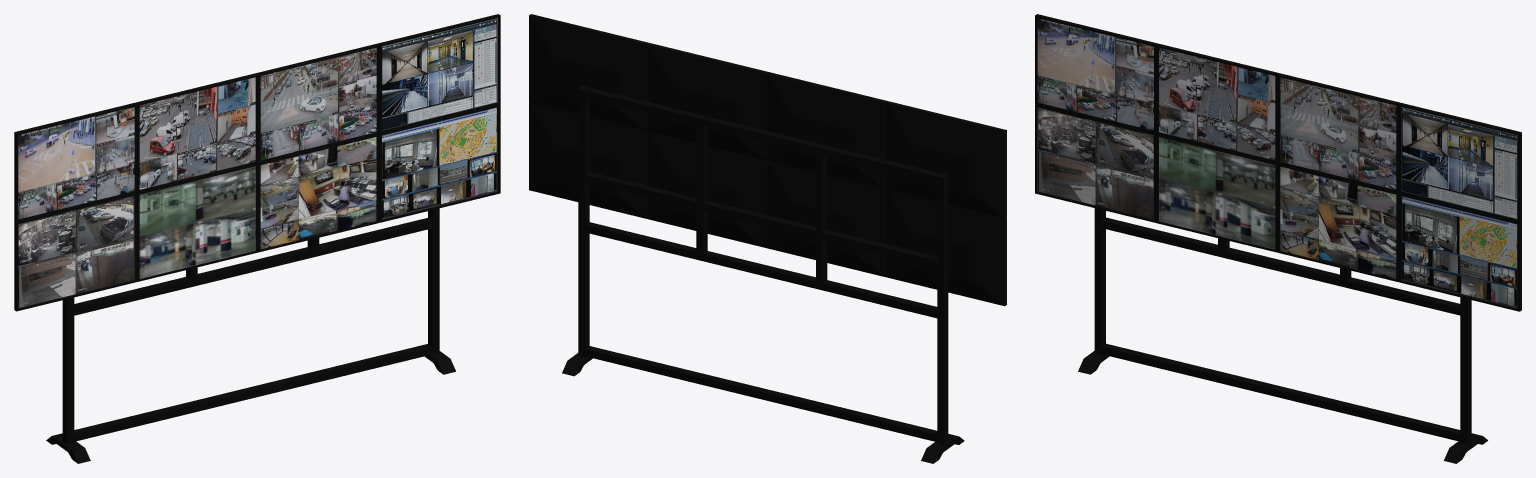
The model's file is Monitors.FBX.
3 views of the same model, side by side, from view 1: azimuth 30°, elevation 25°; view 2: azimuth 150°, elevation 25°; view 3: azimuth 330°, elevation 25° (orthographic).
Visible parts, largest first — view 1: monitors; view 2: monitors; view 3: monitors.
Part boxes in pixels (x1,y1,x2,y2): monitors: (14, 14, 500, 463); monitors: (529, 14, 1006, 463); monitors: (1035, 14, 1521, 463).
Bounding box in the file's own units: 419 × 278 × 47.99.
4 materials, 2 textured.
